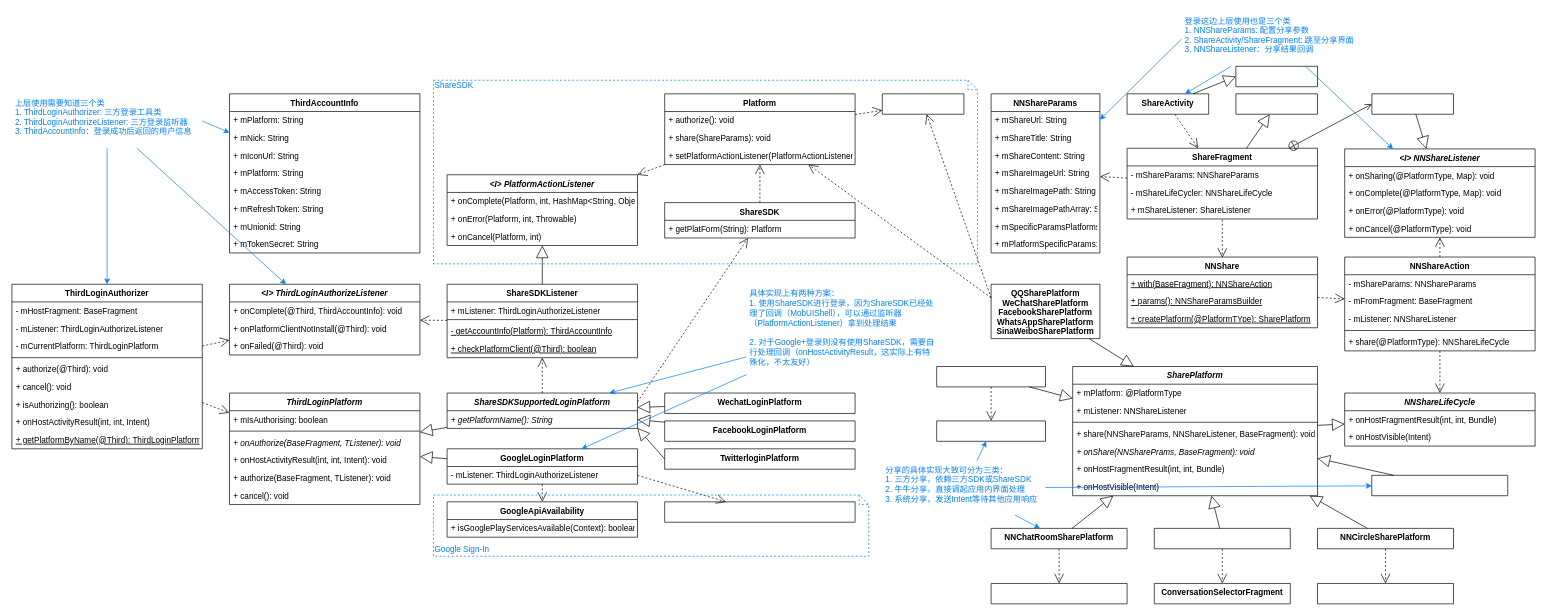
Some shapes in this 1547 by 615 pixel diagram are drawn without their labels. The centre of each missing label's shape, as x and y in pixels:
FeedPostFragment: the point at 1385,593
GoogleSignIn: the point at 759,511
NNBaseActivity: the point at 1276,76
NNBaseFragment: the point at 1276,103
NNContactSharePlatform: the point at 1222,538
RoomListSelectorFragment: the point at 1058,593
ShareListener: the point at 1412,103
ShareParams: the point at 923,103
SystemSharePlatform: the point at 1439,485
TweetComposer: the point at 991,430
TwitterSharePlatform: the point at 991,376
